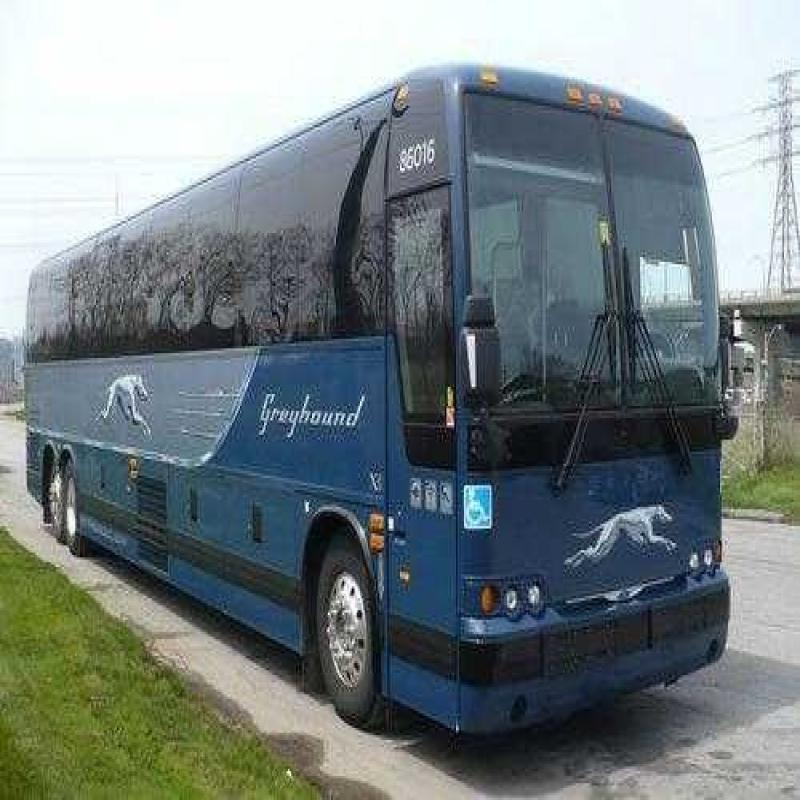bus: (26, 112, 732, 709)
